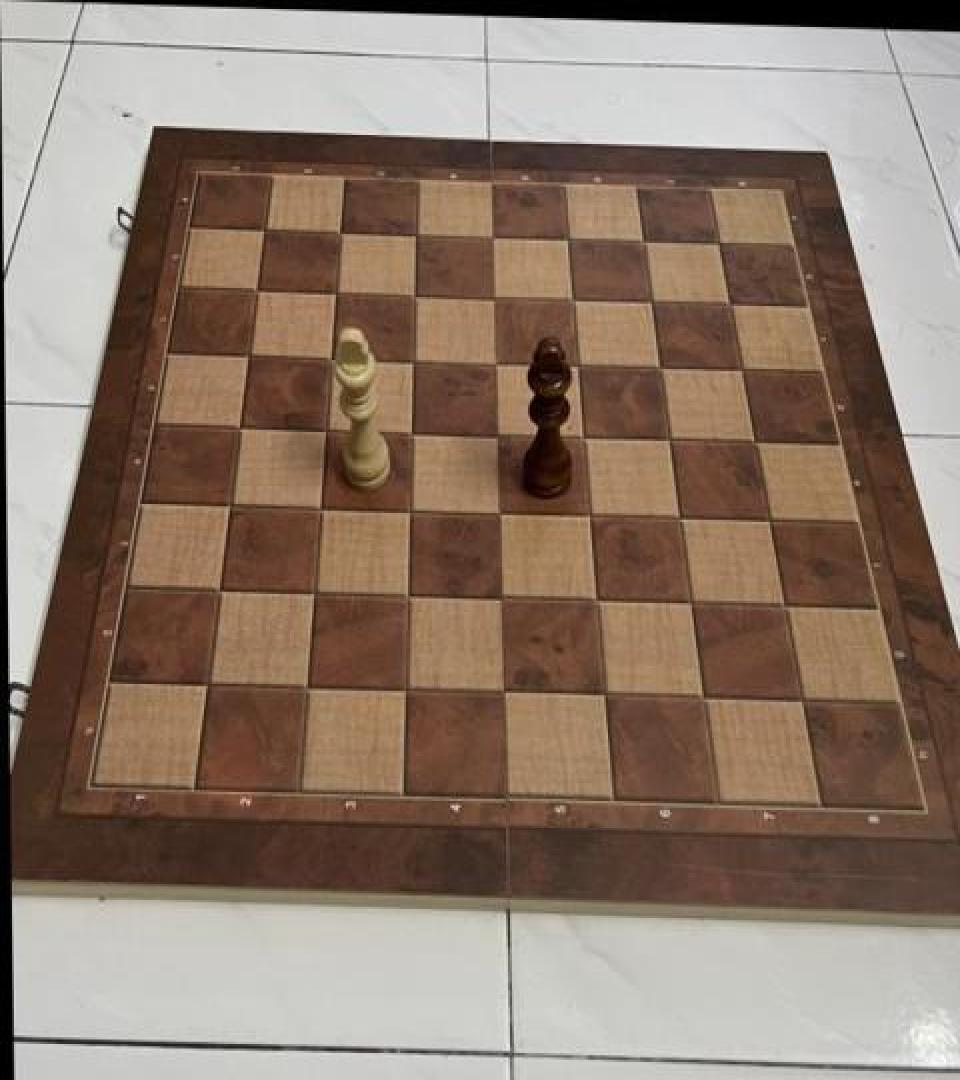xcorner: (475, 219, 509, 258), (725, 353, 759, 392), (567, 418, 601, 457), (663, 499, 697, 538), (702, 228, 736, 266), (626, 225, 660, 263), (551, 222, 585, 260), (399, 217, 433, 255), (323, 214, 357, 252), (247, 212, 281, 250), (713, 288, 747, 326), (634, 285, 668, 323), (556, 282, 590, 320), (477, 280, 511, 318), (398, 277, 432, 315), (319, 274, 353, 312), (240, 271, 274, 309), (643, 351, 677, 389), (561, 348, 595, 386), (479, 346, 513, 384), (397, 342, 431, 380), (314, 340, 348, 378), (232, 336, 266, 374), (738, 424, 772, 462), (653, 422, 687, 460), (481, 416, 515, 454), (396, 413, 430, 451), (309, 411, 343, 449), (223, 408, 257, 446), (752, 502, 786, 540), (574, 498, 608, 536), (484, 494, 518, 532), (394, 492, 428, 530), (304, 488, 338, 526), (214, 486, 248, 524), (768, 588, 802, 626), (675, 585, 709, 623), (581, 582, 615, 620), (487, 580, 521, 618), (392, 576, 426, 614), (298, 574, 332, 612), (203, 570, 237, 608), (785, 682, 819, 720), (687, 680, 721, 718), (589, 676, 623, 714), (490, 673, 524, 711), (391, 670, 425, 708), (291, 667, 325, 705), (192, 665, 226, 703)
